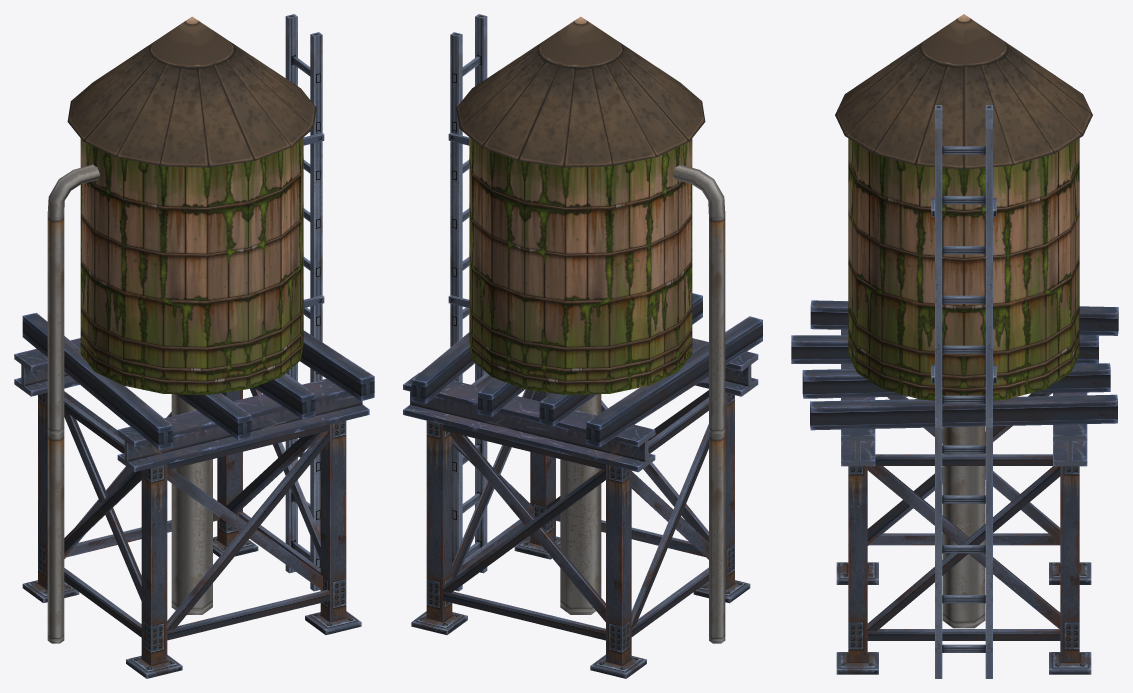
File: TRF0610003.fbx
3 renders of one model, left to right at view 1: azimuth 30°, elevation 25°; view 2: azimuth 150°, elevation 25°; view 3: azimuth 270°, elevation 25°, orthographic. The views are drawn at different scales.
Parts seen in each view (by area): view 1: smTRF0610003; view 2: smTRF0610003; view 3: smTRF0610003.
Boxes of the visible parts, bbox=[...] form: smTRF0610003: bbox=[14, 14, 374, 678]; smTRF0610003: bbox=[403, 14, 762, 678]; smTRF0610003: bbox=[791, 14, 1118, 678].
Size of the model in its own units: 517 by 1123 by 549.
1 material, 1 textured.
